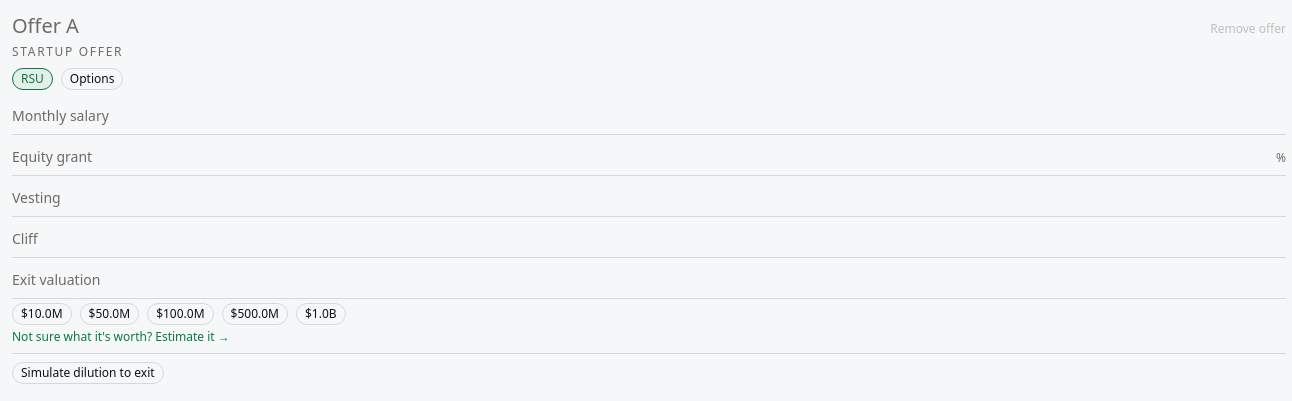
it: OfferColumn › shows the RSU field set by default and swaps to the options field set when toggled
Check: the field labelled "Strike price" is not shown
Click the button "Options" at (92, 79), box [61,68,123,90]
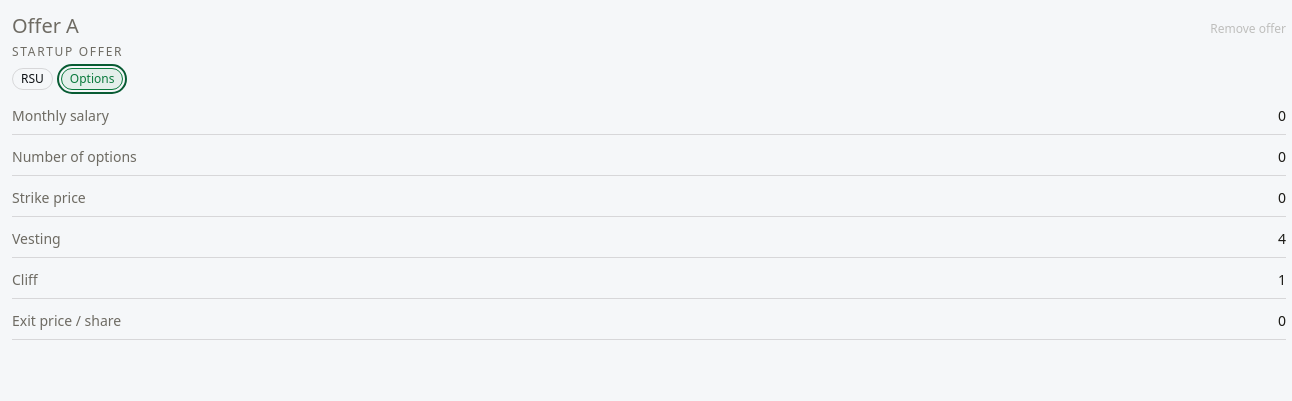
Check: the field labelled "Strike price" is shown, box [1174,188,1286,208]
Check: the text "Equity grant" is gone
